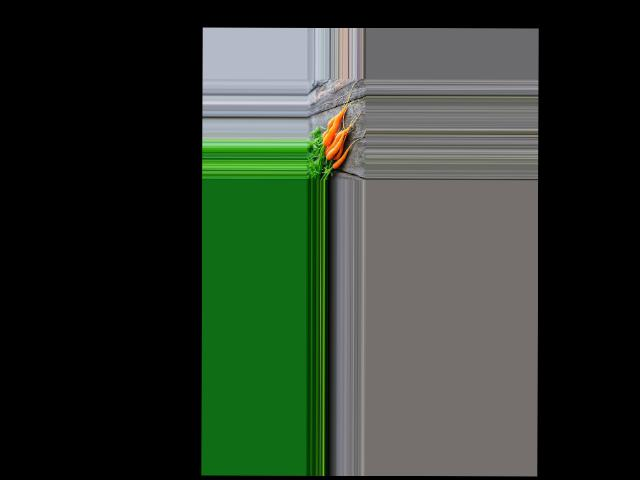carrot: (321, 110, 344, 150)
